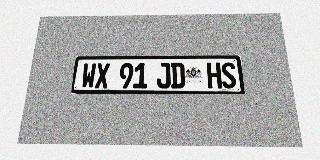1: (133, 63, 147, 88)
9: (119, 63, 134, 88)
D: (171, 63, 185, 88)
H: (206, 62, 222, 88)
J: (157, 63, 170, 88)
S: (221, 62, 237, 88)
W: (81, 63, 96, 88)
X: (95, 63, 110, 88)
